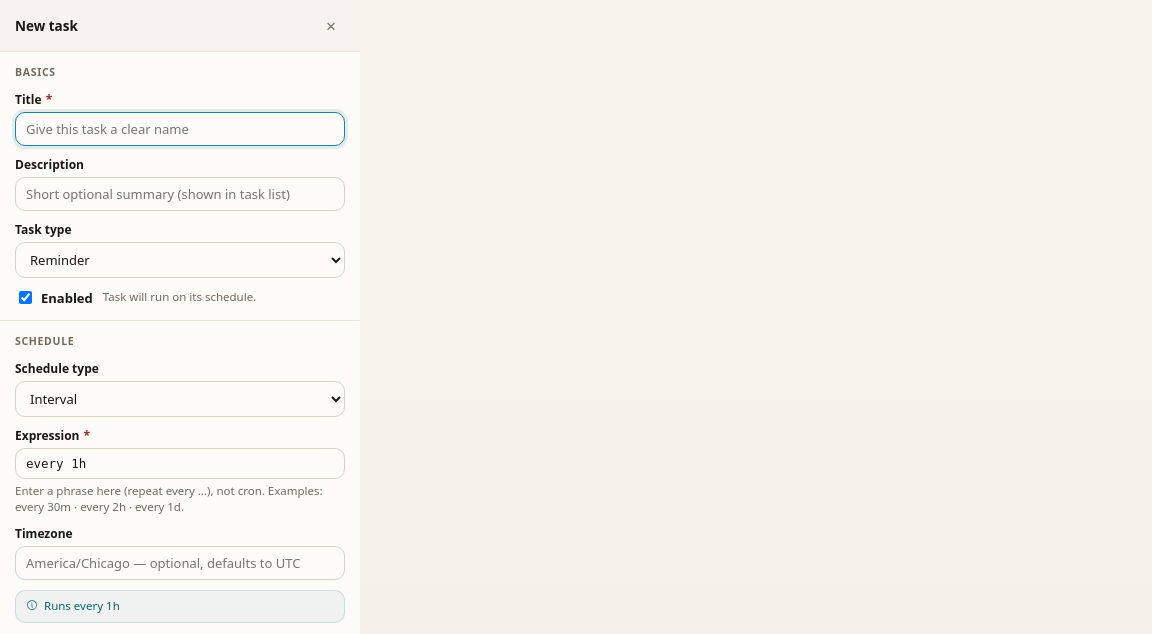
Schedule summary preview › once schedule with an unparseable expression falls back gracefully
The width and height of the screenshot is (1152, 634).
Select "One-time" in the dropdown labelled "Schedule type": (180, 399) [15,381,345,417]
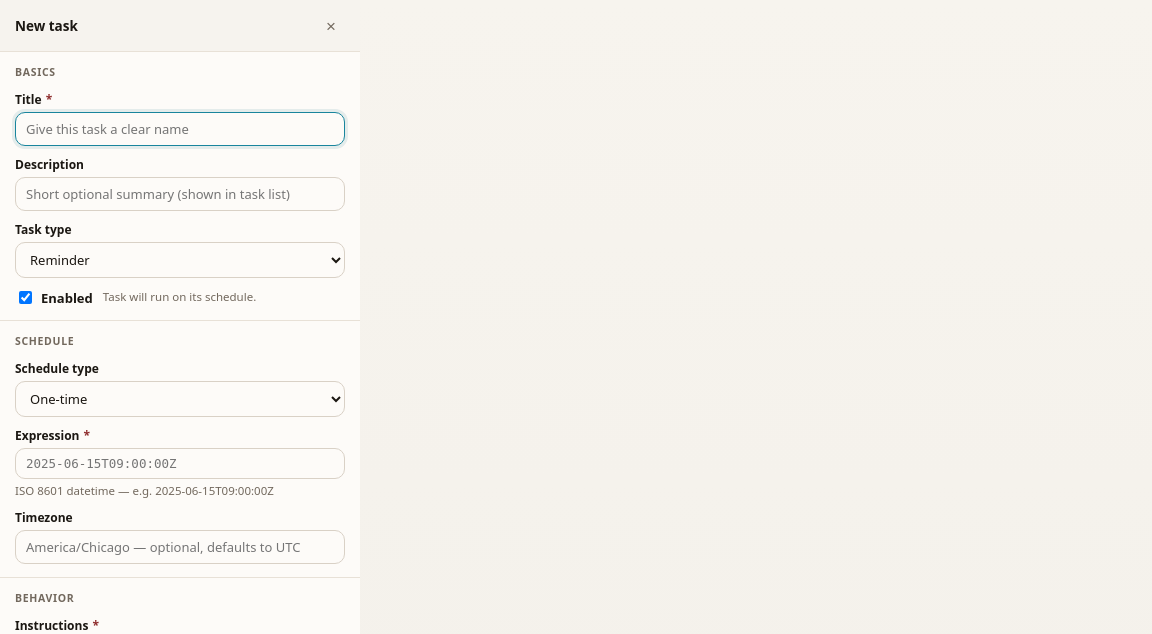
In the field labelled "Expression *": (180, 464) [15,448,345,479], type "not-a-date"
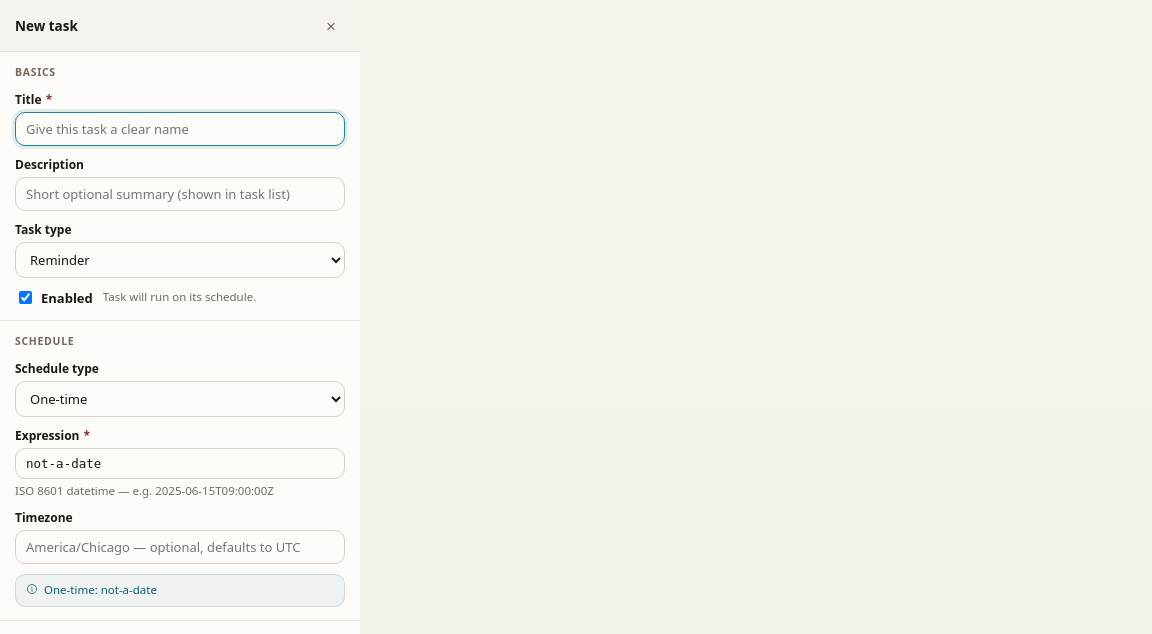
Check: the message shows "One-time:", box [44,582,157,597]
